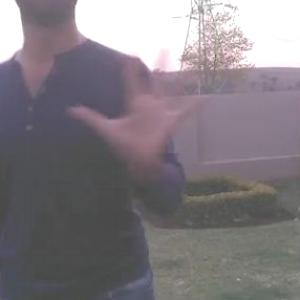follow_hand: (67, 40, 208, 159)
